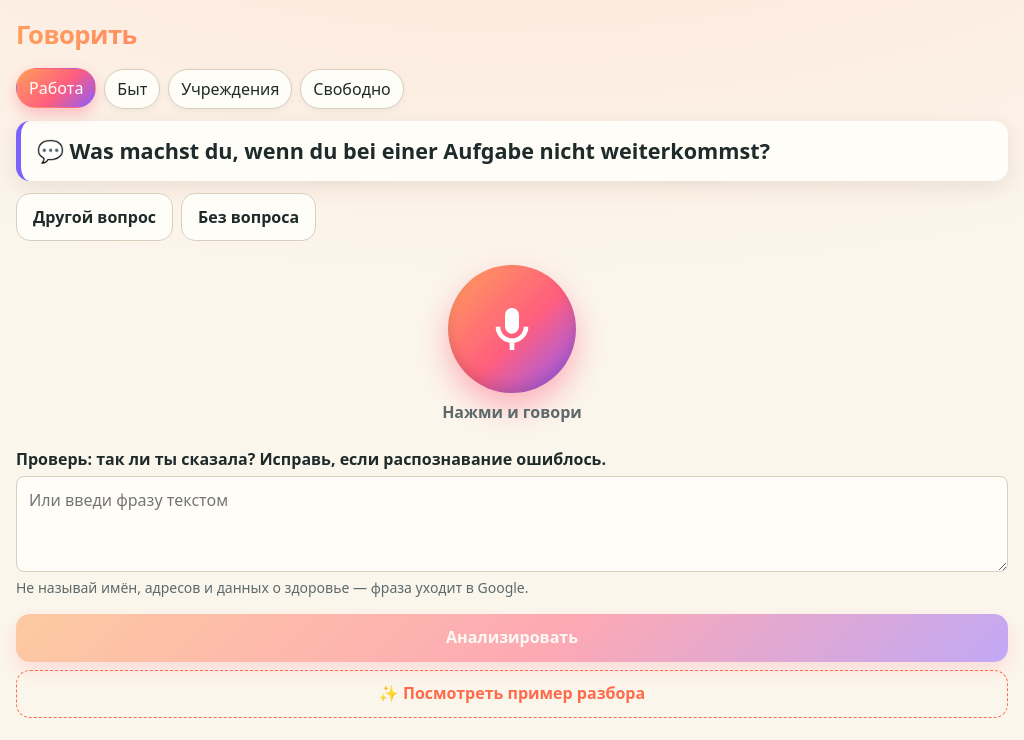
SpeakPage › saves a phrase with zero selected suggestions
Type "Ich gehe zum Arzt" into the text box.
click(512, 524); type("Ich gehe zum Arzt")  # box [16,476,1008,572]
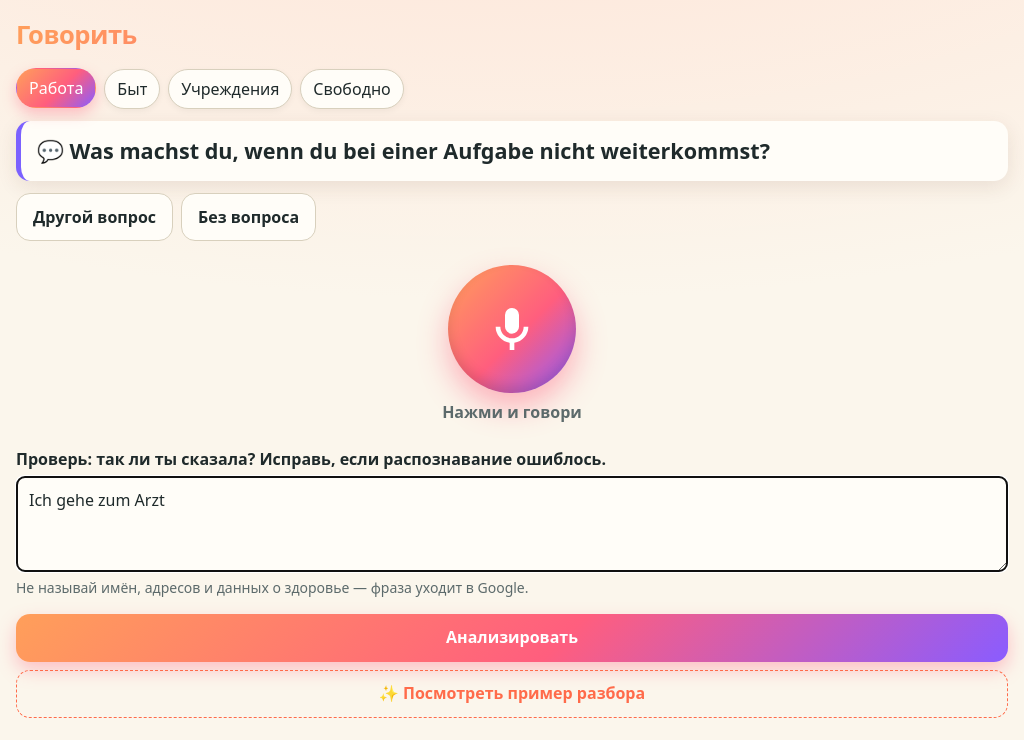
Click the button "Анализировать".
click(512, 638)  # box [16,614,1008,662]
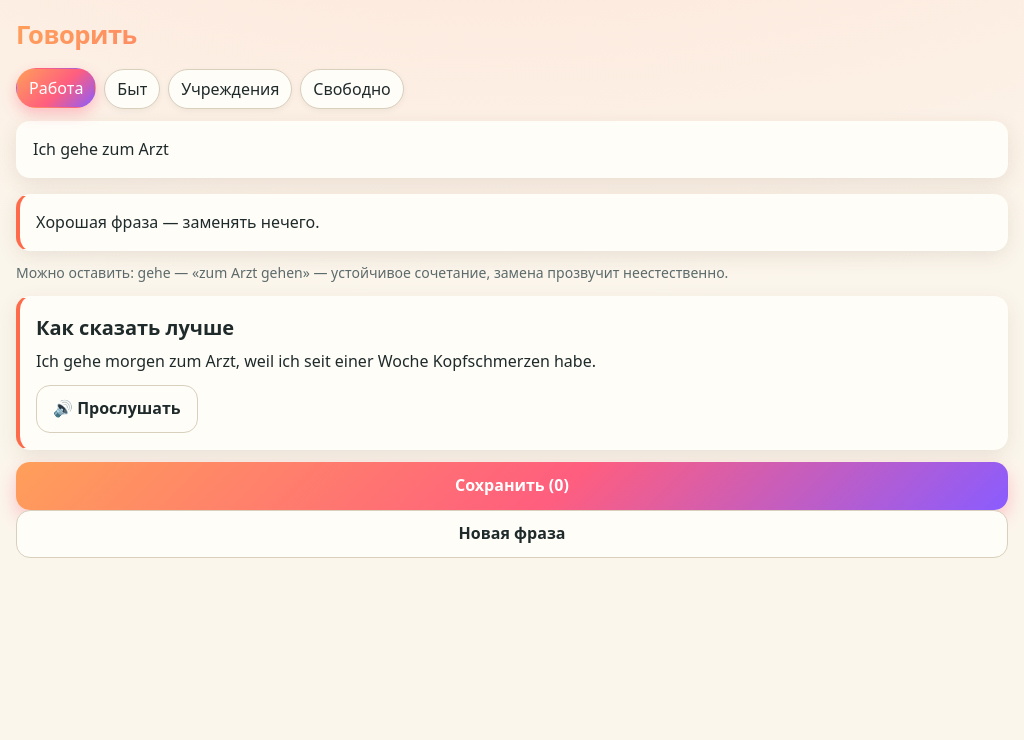
Click the button "Сохранить (0)".
click(512, 486)  # box [16,462,1008,510]
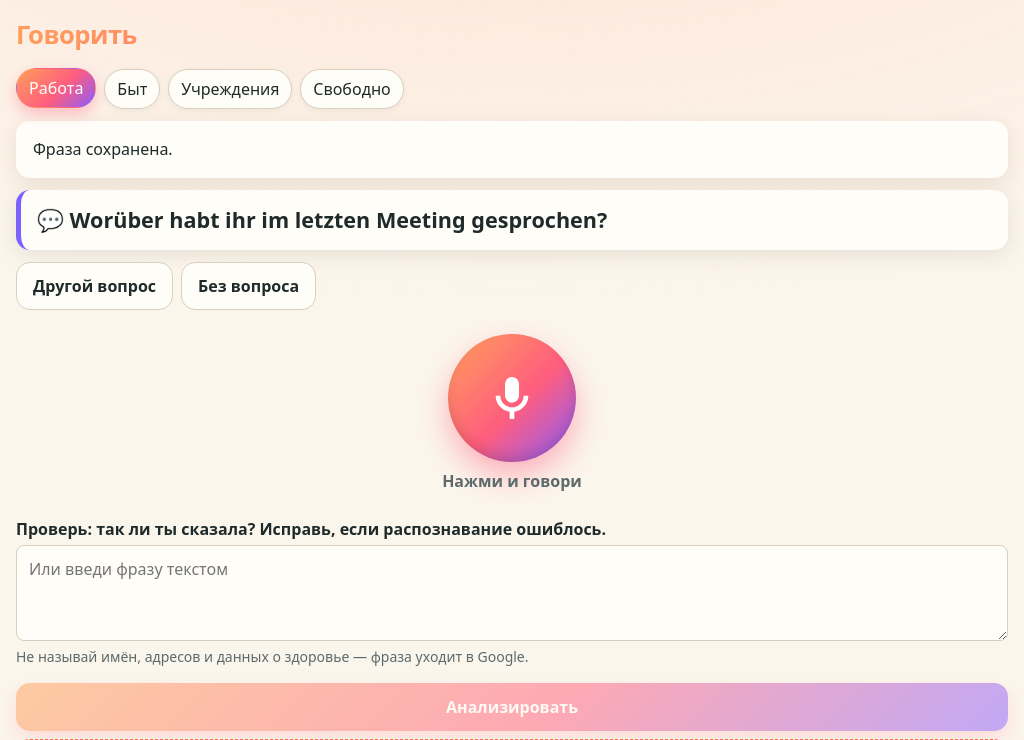
expect the text "Фраза сохранена." is shown: met, box [16,121,1008,178]
